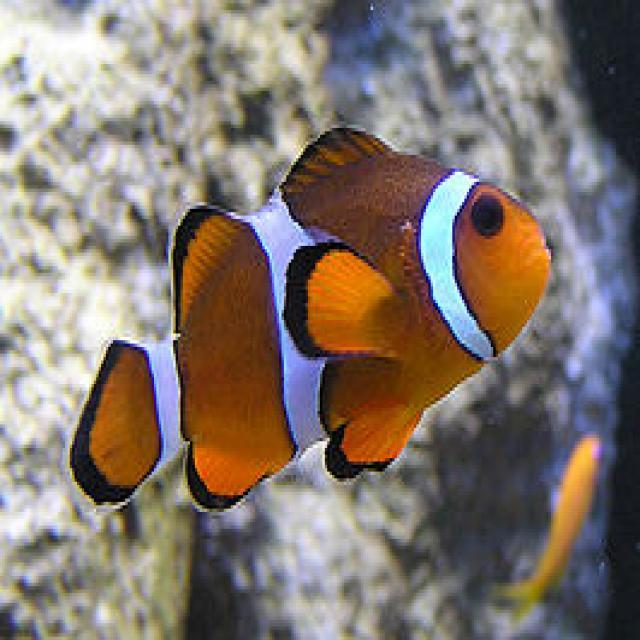ClownFish: (59, 128, 550, 517)
